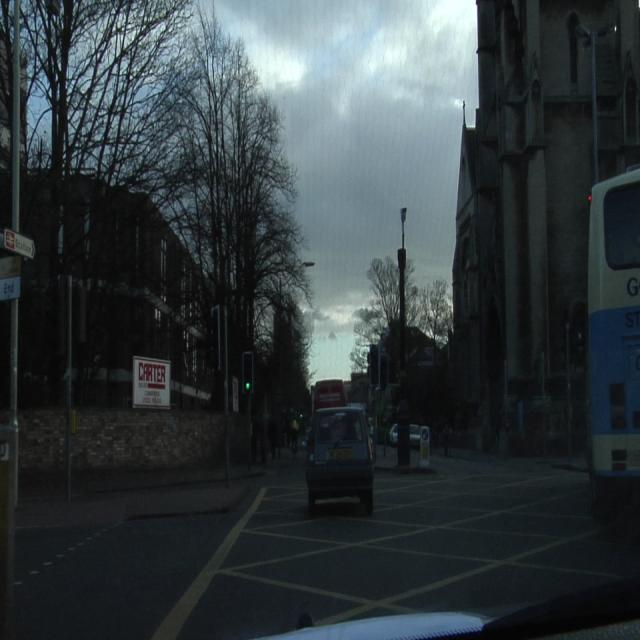Car: (307, 408, 373, 515)
Road: (5, 456, 639, 633)
